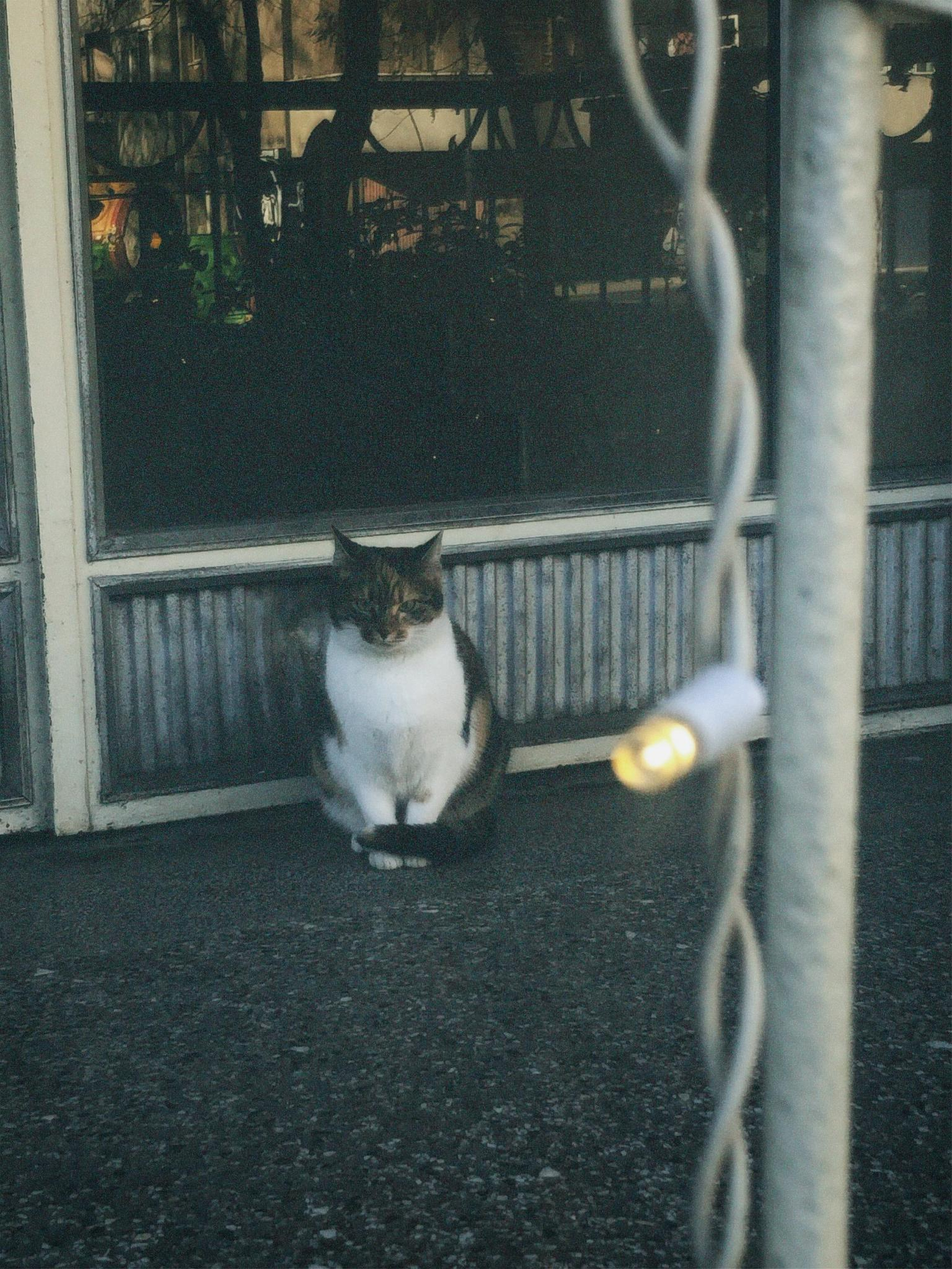macka: (313, 523, 512, 873)
